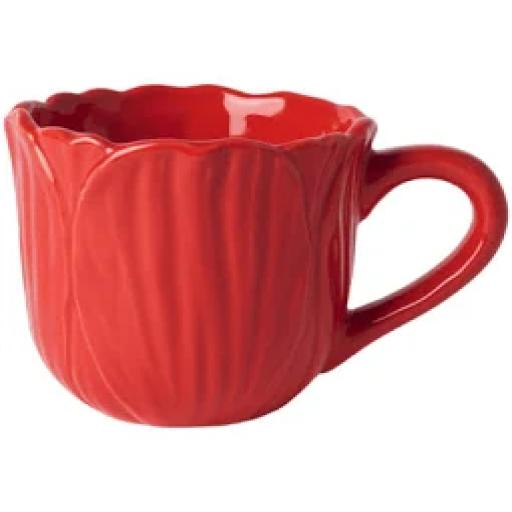red mug: (7, 86, 507, 426)
